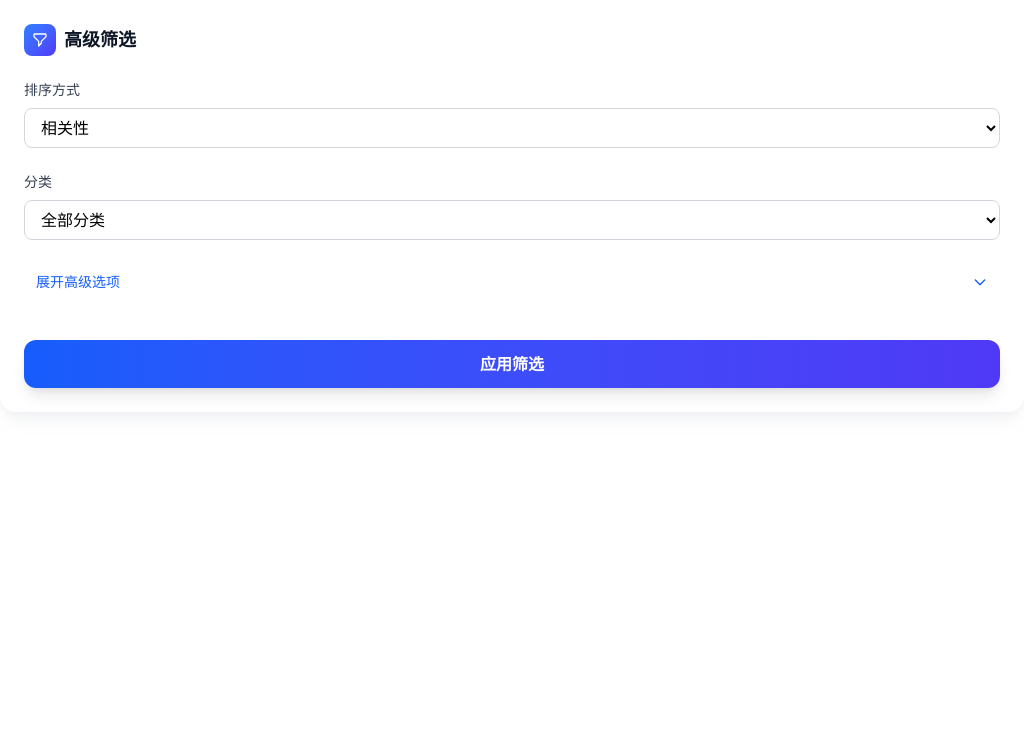
Scenario: AdvancedFilterPanel › 应该支持展开/收起高级选项
Check: the text "编程语言" is not shown
Click the button "展开高级选项" at (78, 282), box [24,264,1000,300]
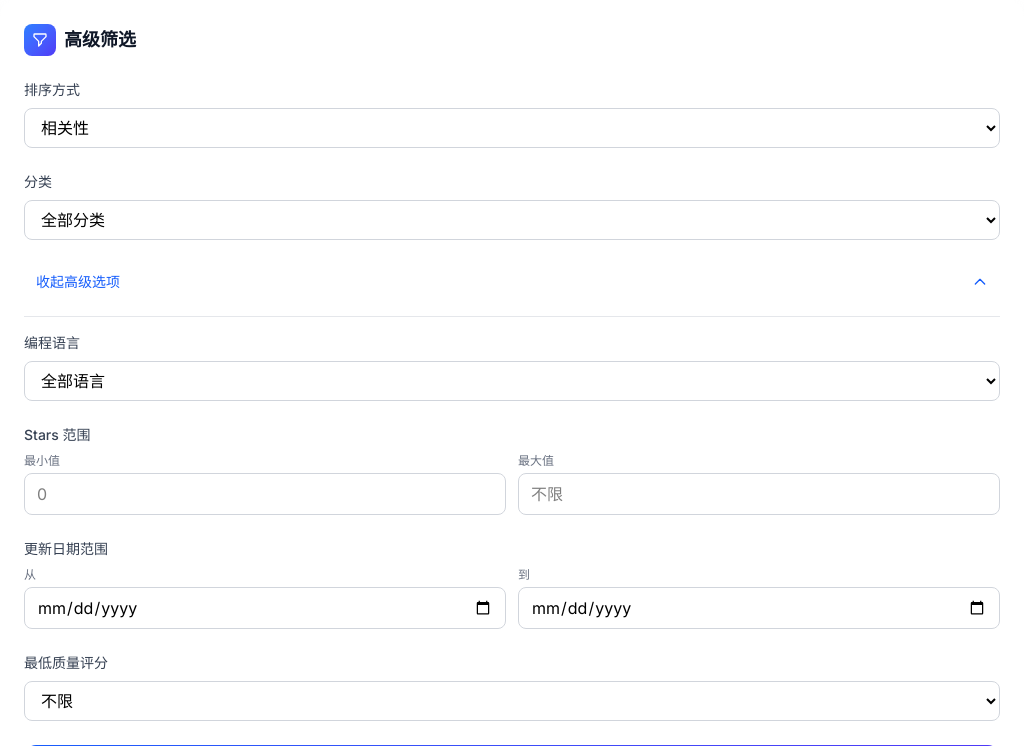
Check: the text "编程语言" is shown, box [24,334,80,351]
Check: the text "收起高级选项" is shown, box [36,272,120,292]
Click the button "收起高级选项" at (78, 282), box [24,264,1000,300]
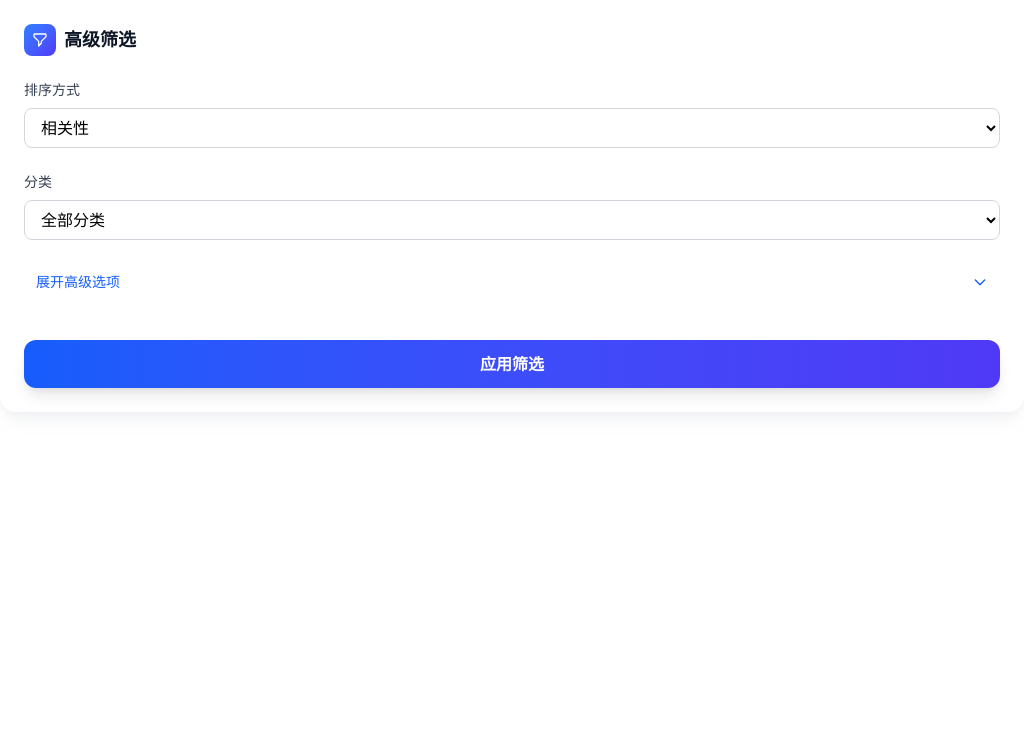
Check: the text "编程语言" is gone
